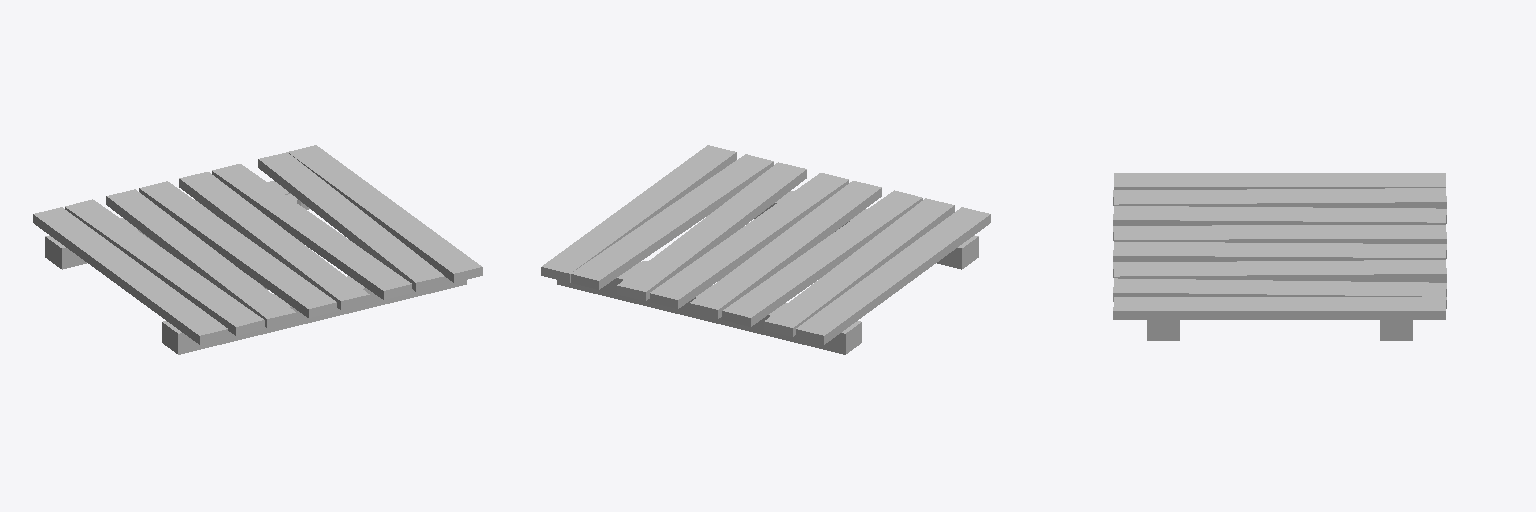
The model's file is woodencatwalkx.obj.
3 views of the same model, side by side, from view 1: azimuth 30°, elevation 25°; view 2: azimuth 150°, elevation 25°; view 3: azimuth 270°, elevation 25° (orthographic).
Parts seen in each view (by area): view 1: bedx+; view 2: bedx+; view 3: bedx+.
Part boxes in pixels (left/top/right/bottom): bedx+: left=33, top=145, right=482, bottom=354; bedx+: left=541, top=145, right=990, bottom=354; bedx+: left=1113, top=173, right=1446, bottom=340.
Bounding box in the file's own units: 1 × 0.1 × 1.